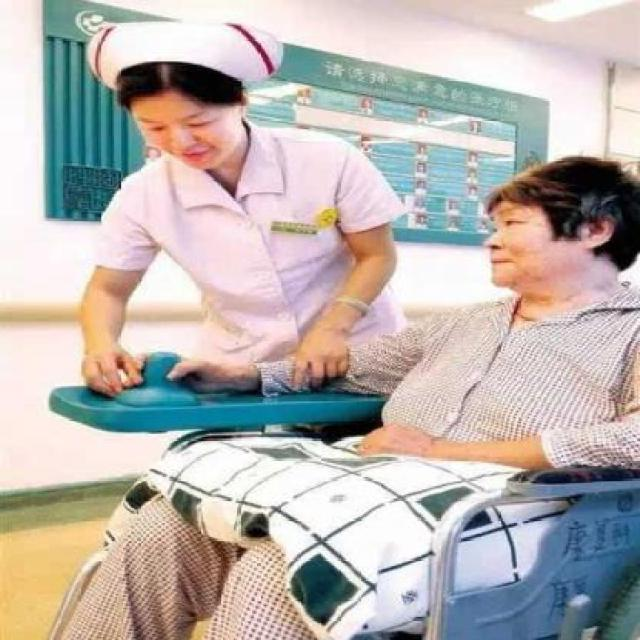face_nomask: (132, 90, 231, 168), (466, 208, 551, 292)
hand_noglove: (129, 349, 257, 398), (352, 418, 434, 464), (76, 342, 142, 398), (286, 334, 349, 389)
head_nohelmet: (472, 138, 638, 222), (94, 40, 260, 103)
person: (31, 141, 640, 640), (57, 18, 397, 400)
